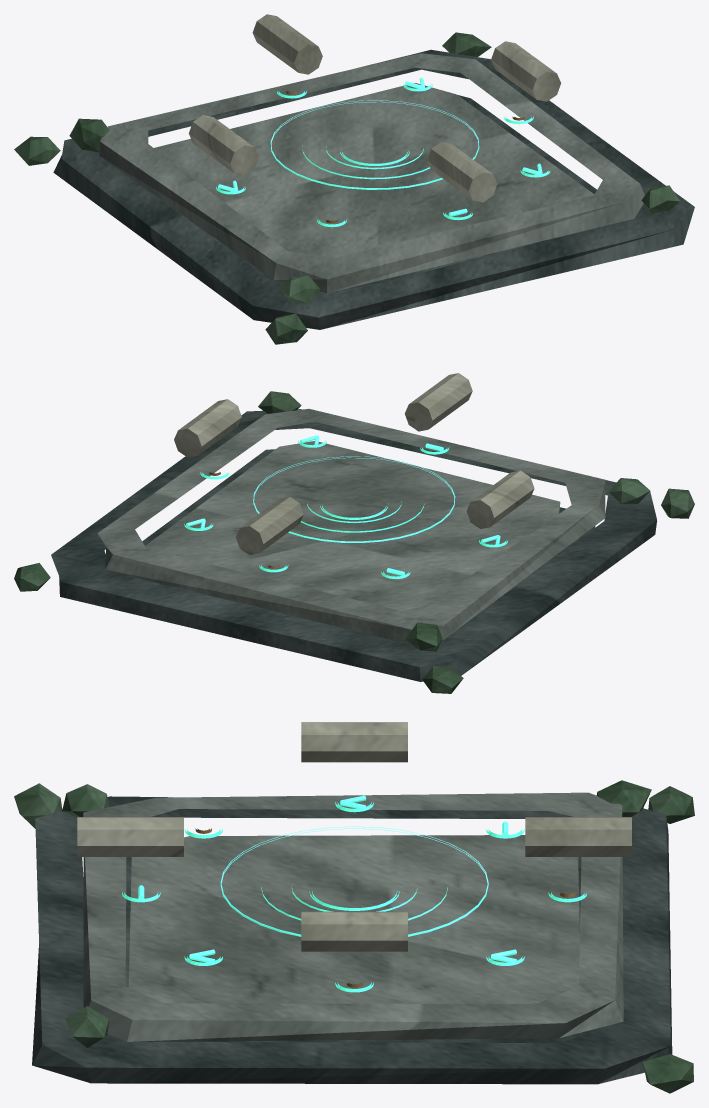
File: 0556_rune_dais_06.glb
3 renders of one model, top to bottom at view 1: azimuth 30°, elevation 25°; view 2: azimuth 150°, elevation 25°; view 3: azimuth 270°, elevation 25°, orthographic. The views are drawn at different scales.
Parts seen in each view (by area): view 1: stone, stone_dark, stone_light, moss, glow; view 2: stone, stone_dark, stone_light, moss, glow; view 3: stone, stone_dark, stone_light, moss, glow.
Part boxes in pixels (x1,y1,x2,y2): stone: (99, 53, 644, 293); stone_dark: (53, 49, 694, 329); stone_light: (188, 14, 561, 202); moss: (14, 32, 680, 344); glow: (216, 77, 550, 227); stone: (97, 408, 605, 644); stone_dark: (51, 409, 656, 681); stone_light: (174, 373, 534, 554); moss: (14, 391, 694, 693); glow: (184, 435, 507, 578); stone: (83, 792, 623, 1041); stone_dark: (32, 796, 672, 1084); stone_light: (77, 722, 631, 951); moss: (14, 780, 694, 1093); glow: (122, 795, 586, 992).
Bounding box in the file's own units: 3.22 × 0.7299 × 3.19.
Materials: 6 (6 with a texture image).
